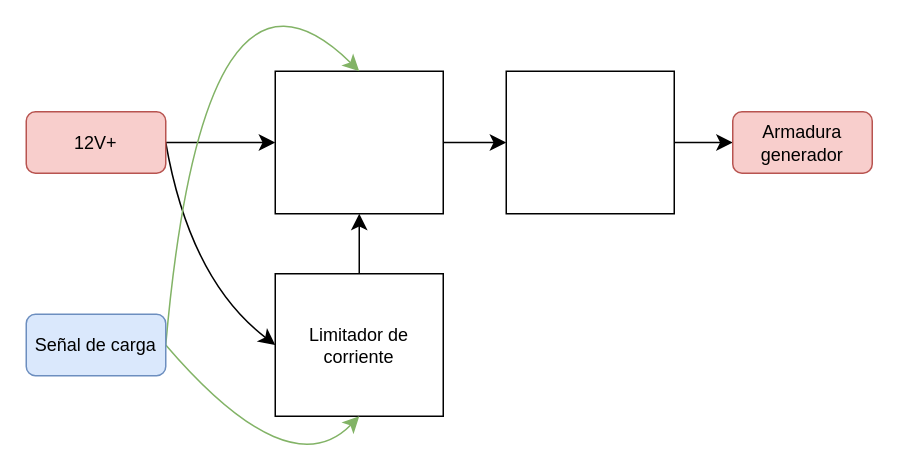
Some shapes in this 899 by 471 pixel diagram are drawn without their labels. Each missing label, with the centre of its shape:
"Etapa de potencia" goes at [589,142].
"Transductor de corriente" goes at [358,142].
